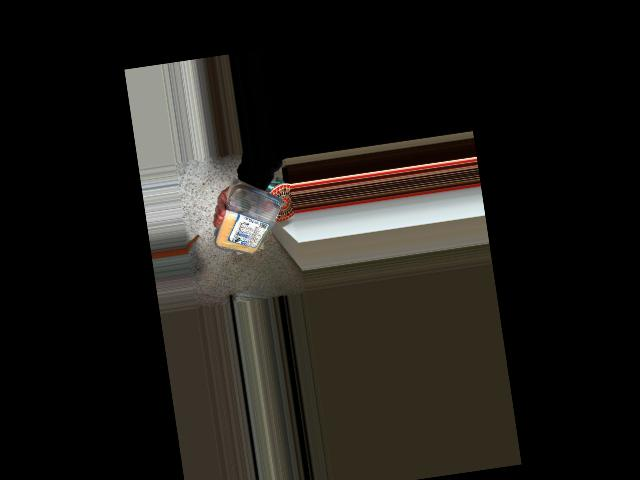cheese: (217, 183, 288, 260)
